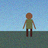person: (23, 13, 36, 37)
